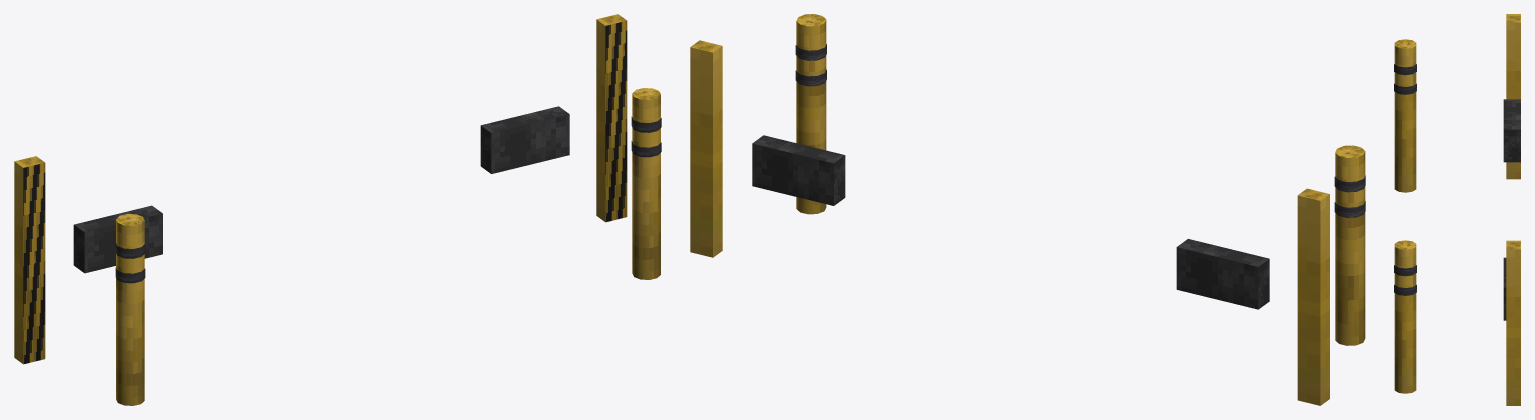
File: bay_guards.glb
3 views of the same model, side by side, from view 1: azimuth 30°, elevation 25°; view 2: azimuth 150°, elevation 25°; view 3: azimuth 270°, elevation 25° (orthographic). The views are drawn at different scales.
Visible parts, largest first — view 1: bay_guards; view 2: bay_guards; view 3: bay_guards.
Boxes of the visible parts, box(x1,y1,x2,y2) form: bay_guards: box(14, 14, 661, 405); bay_guards: box(690, 14, 1365, 405); bay_guards: box(1394, 14, 1520, 405).
Size of the model in its own units: 3.86 by 1.2 by 0.8789.
1 material, 1 textured.
